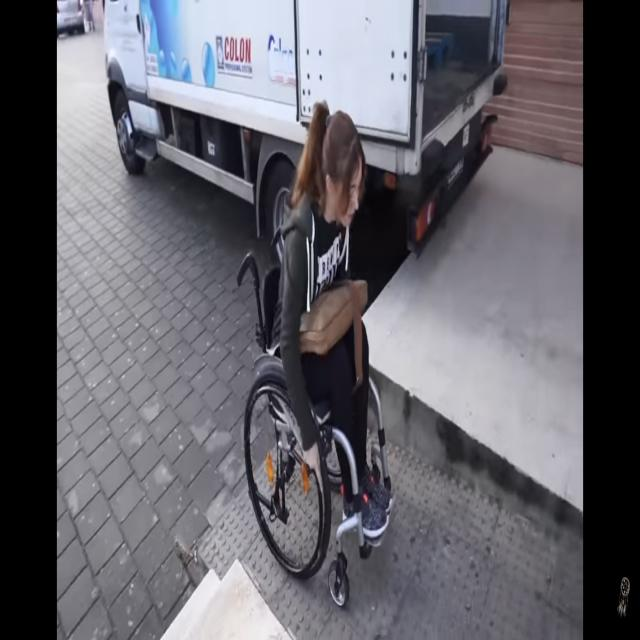wheelchairs: (235, 223, 395, 610)
